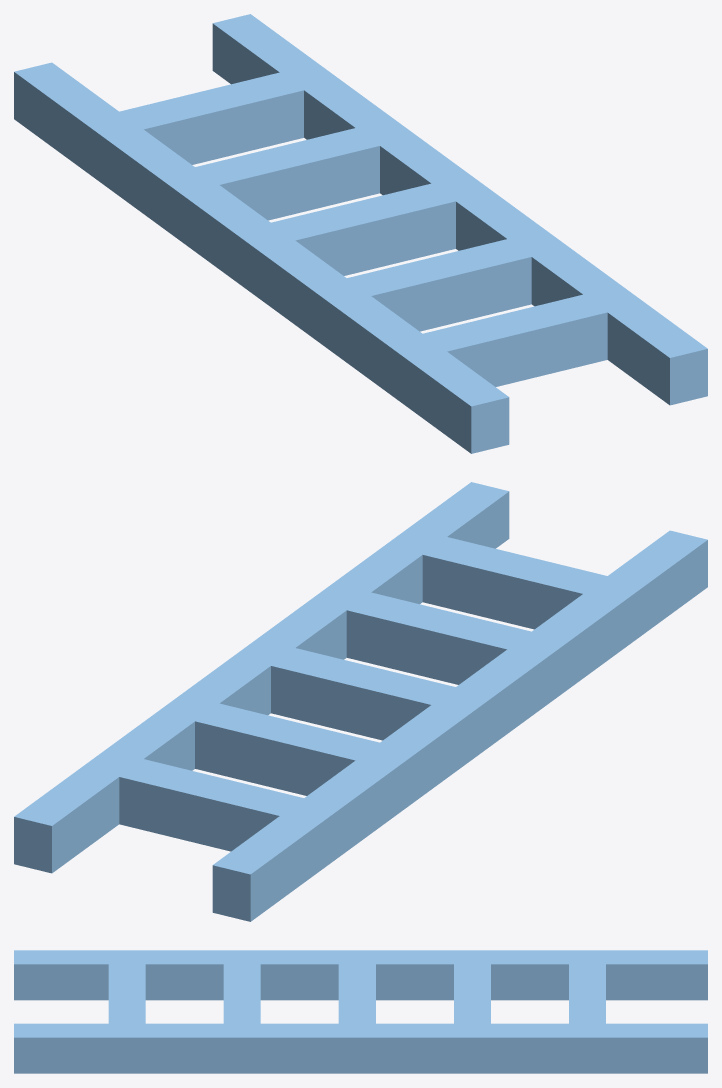
File: laddurnietbinnenstebuiten.glb
3 views of the same model, one above another, from view 1: azimuth 30°, elevation 25°; view 2: azimuth 150°, elevation 25°; view 3: azimuth 270°, elevation 25° (orthographic). The views are drawn at different scales.
Visible parts, largest first — view 1: Cube; view 2: Cube; view 3: Cube.
Boxes of the visible parts, x1,y1,x2,y2 form: Cube: [14, 14, 707, 453]; Cube: [14, 482, 707, 921]; Cube: [14, 950, 707, 1073].
Bounding box in the file's own units: 0.033 × 0.00633 × 0.1105.
